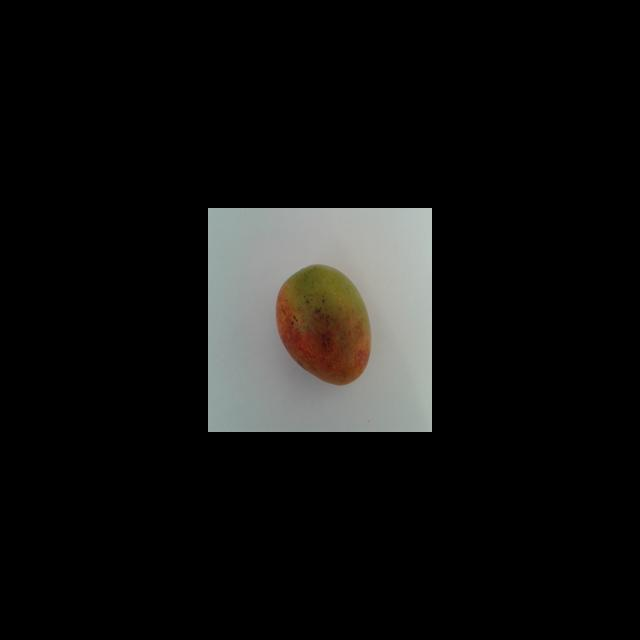Mango: (274, 263, 371, 385)
